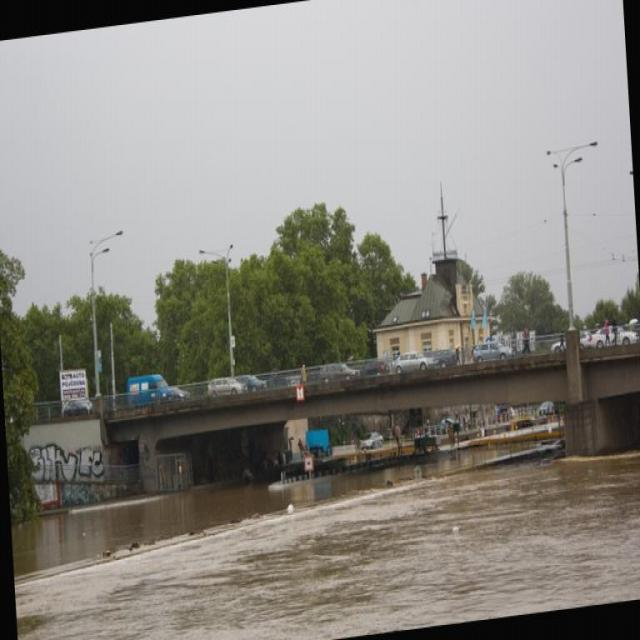flood: (9, 418, 639, 639)
